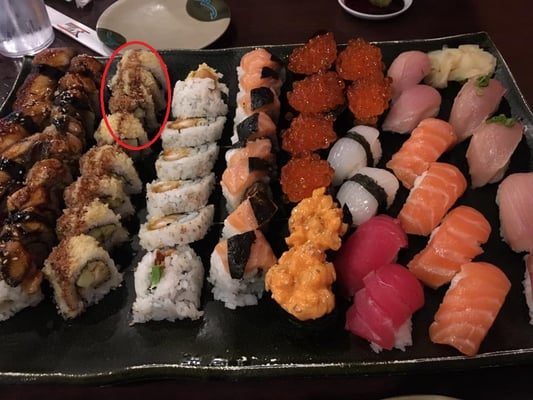sushi: (336, 0, 415, 22)
